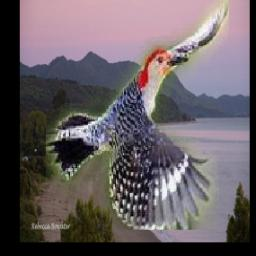Woodpecker: (46, 0, 229, 230)
